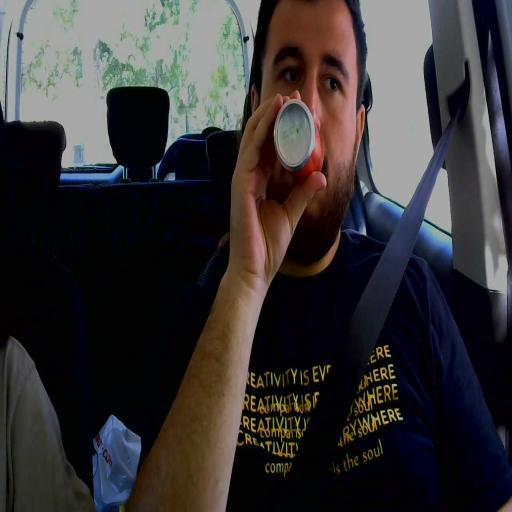Drinking: (245, 0, 368, 259)
